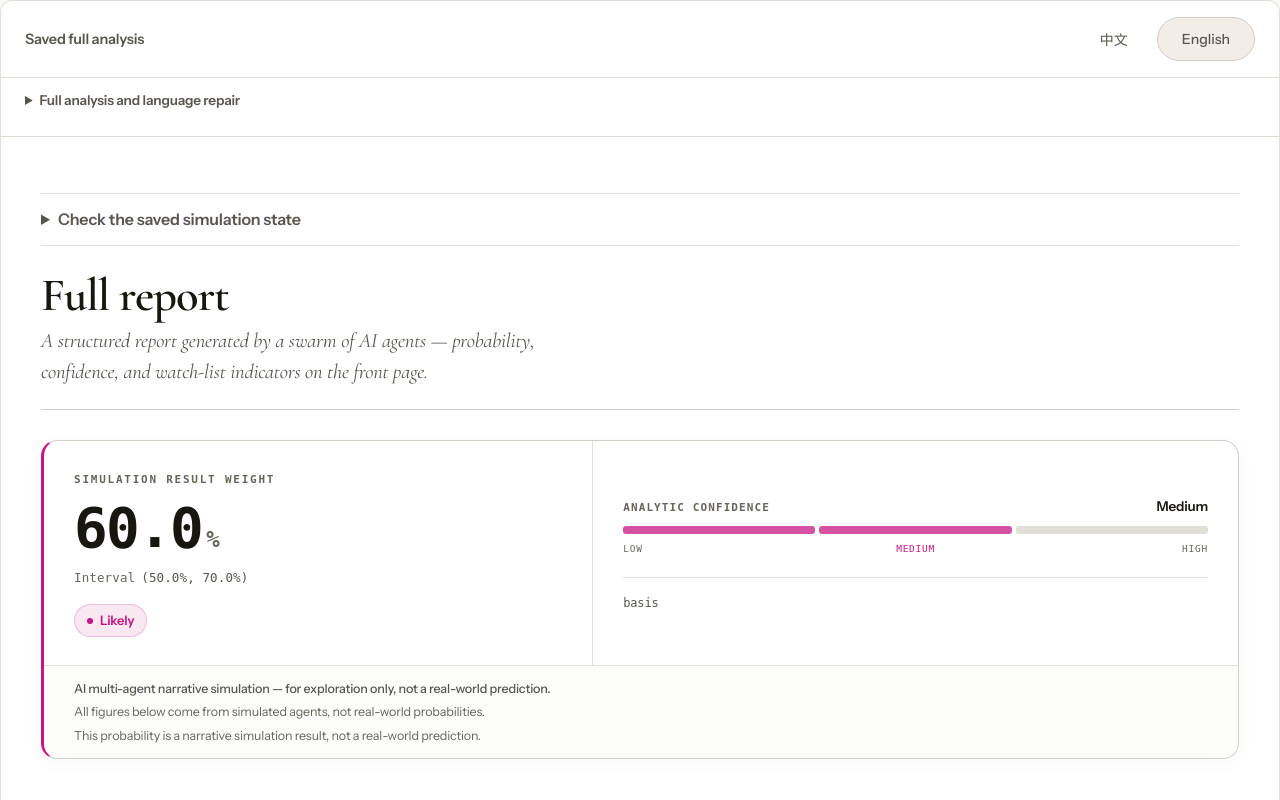
Test case: report content language resolution › does not turn unavailable domain state into zero-valued evidence
Click the heading "Check the saved simulation state". click: point(179, 218)
box: [58,208,301,228]
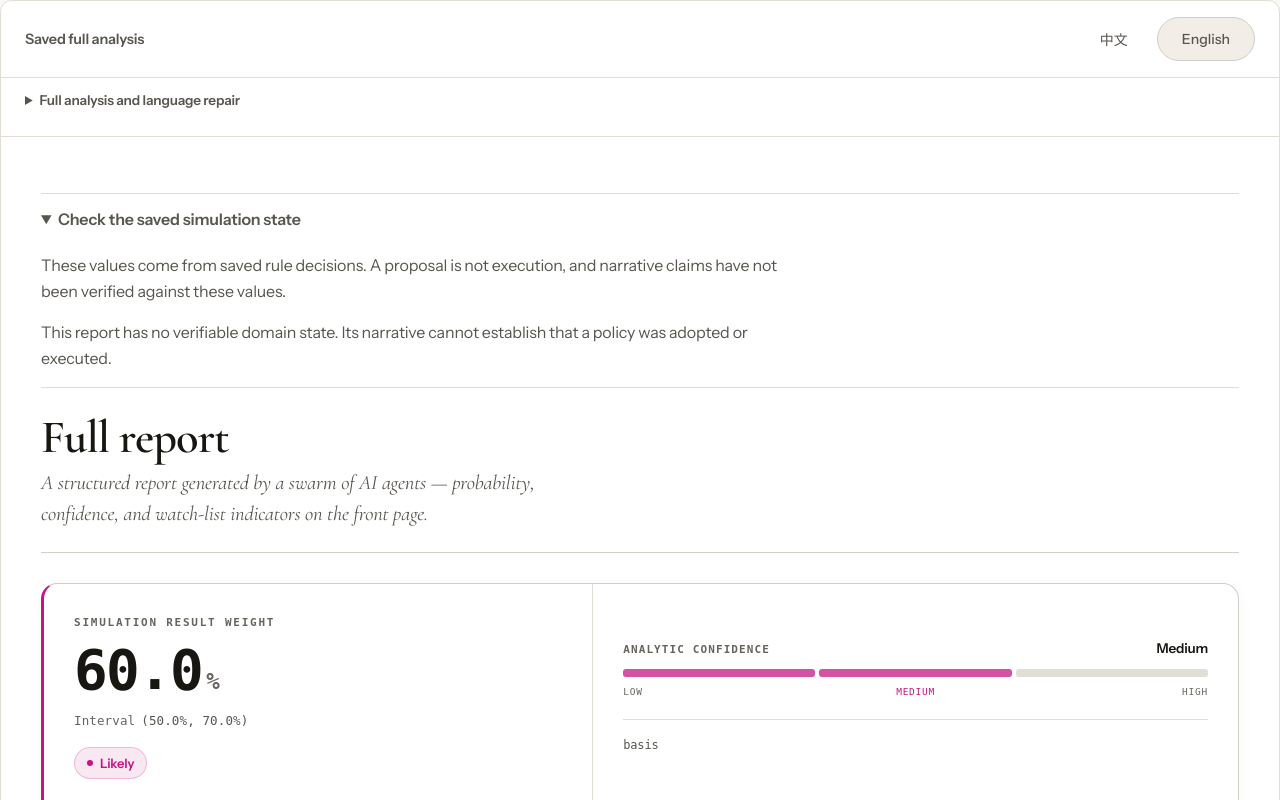
Result: the text "This report has no verifiable domain state" is shown at [41,322,748,368]
